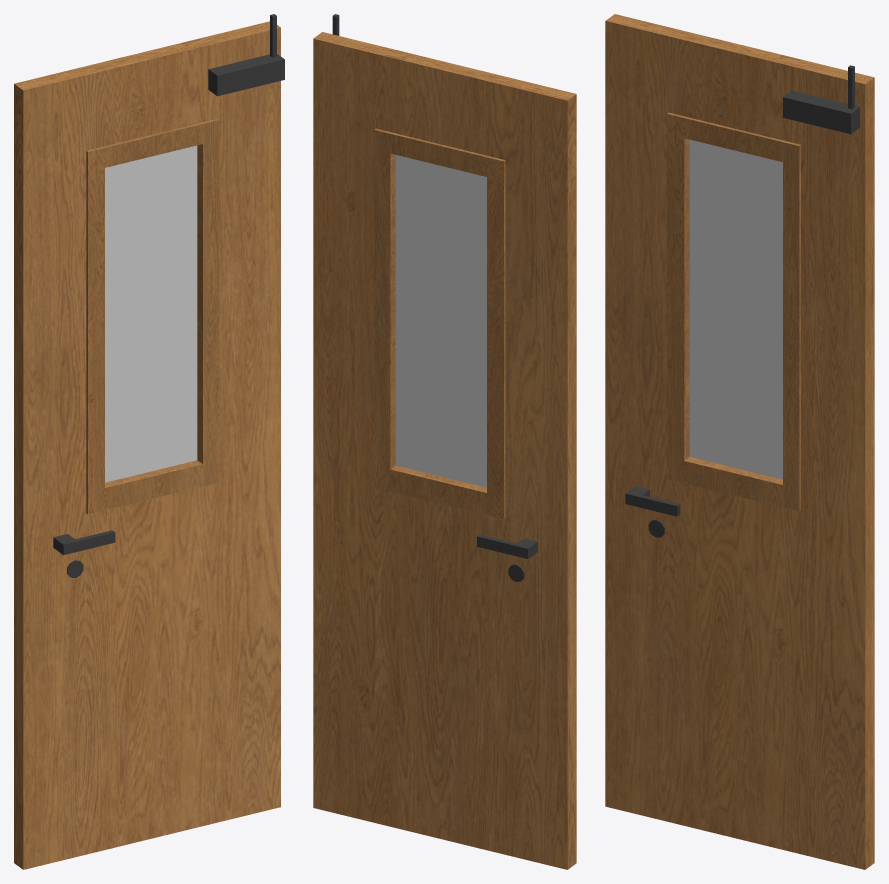
The model's file is Door.fbx.
3 renders of one model, left to right at view 1: azimuth 30°, elevation 25°; view 2: azimuth 150°, elevation 25°; view 3: azimuth 330°, elevation 25°, orthographic. The views are drawn at different scales.
Visible parts, largest first — view 1: Door; view 2: Door; view 3: Door.
Boxes of the visible parts, <box> form: Door: <box>14,14,284,869</box>; Door: <box>313,14,576,869</box>; Door: <box>605,14,874,869</box>.
Bounding box in the file's own units: 79.94 × 236 × 15.86.
